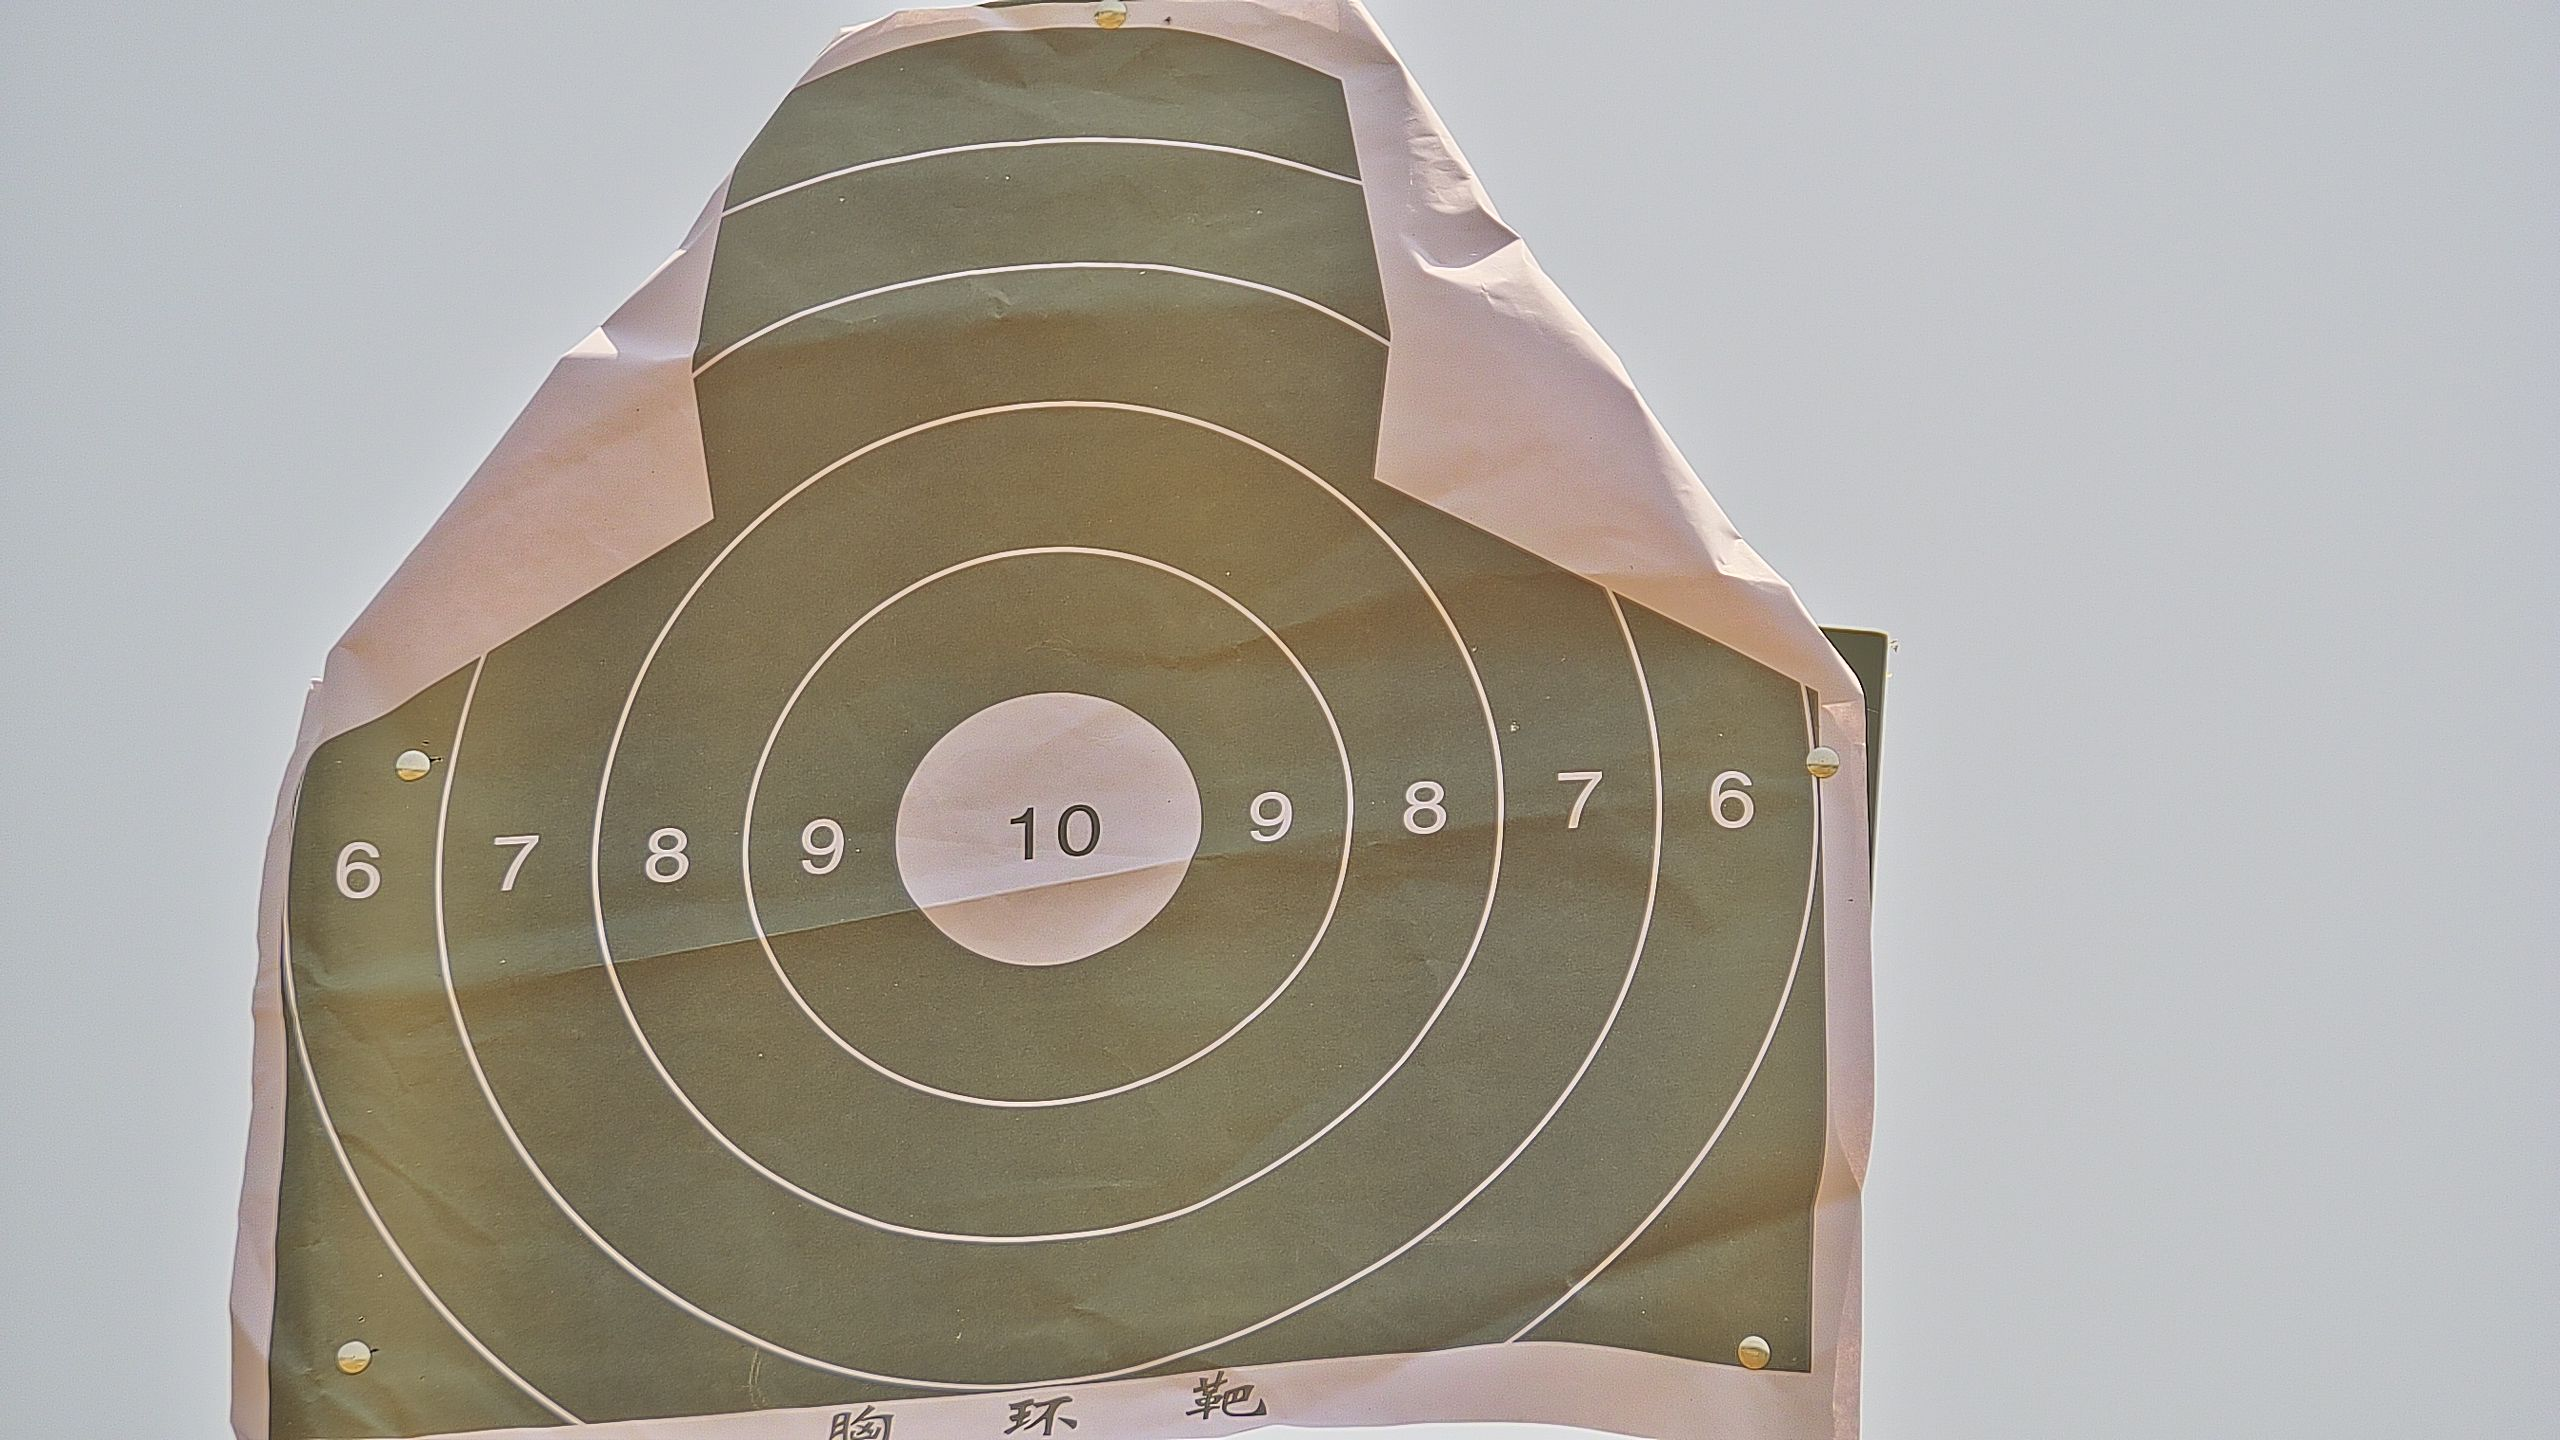kernel: (1039, 832, 1053, 833)
target: (276, 23, 1822, 1440)
ten: (895, 693, 1204, 969)
